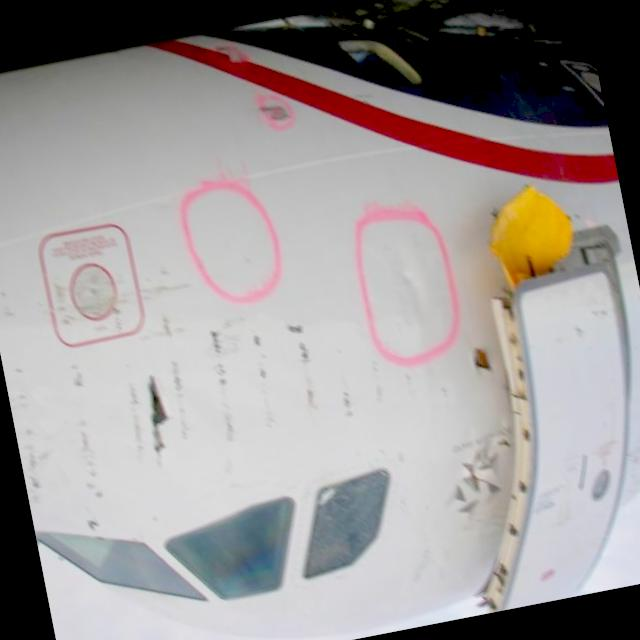crack: (132, 369, 184, 459)
